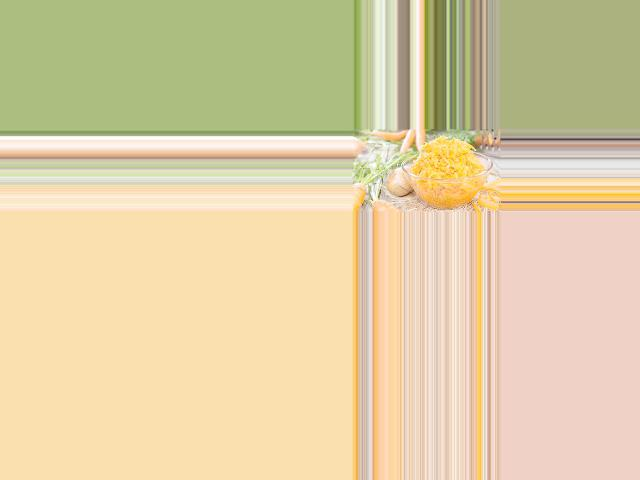carrot: (415, 131, 425, 150)
